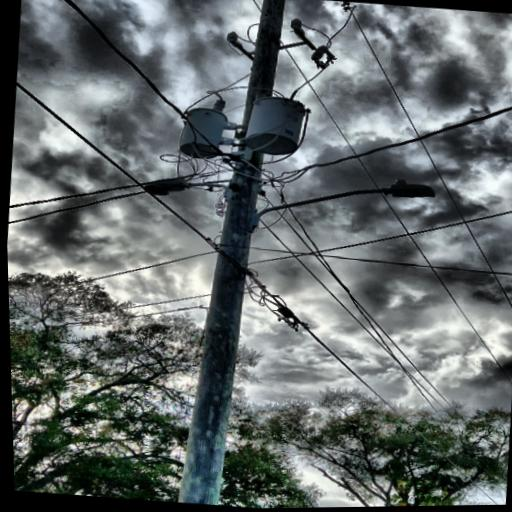pole: (126, 0, 316, 510)
street light: (249, 165, 442, 247)
transformer: (240, 93, 310, 159), (175, 102, 230, 161)
